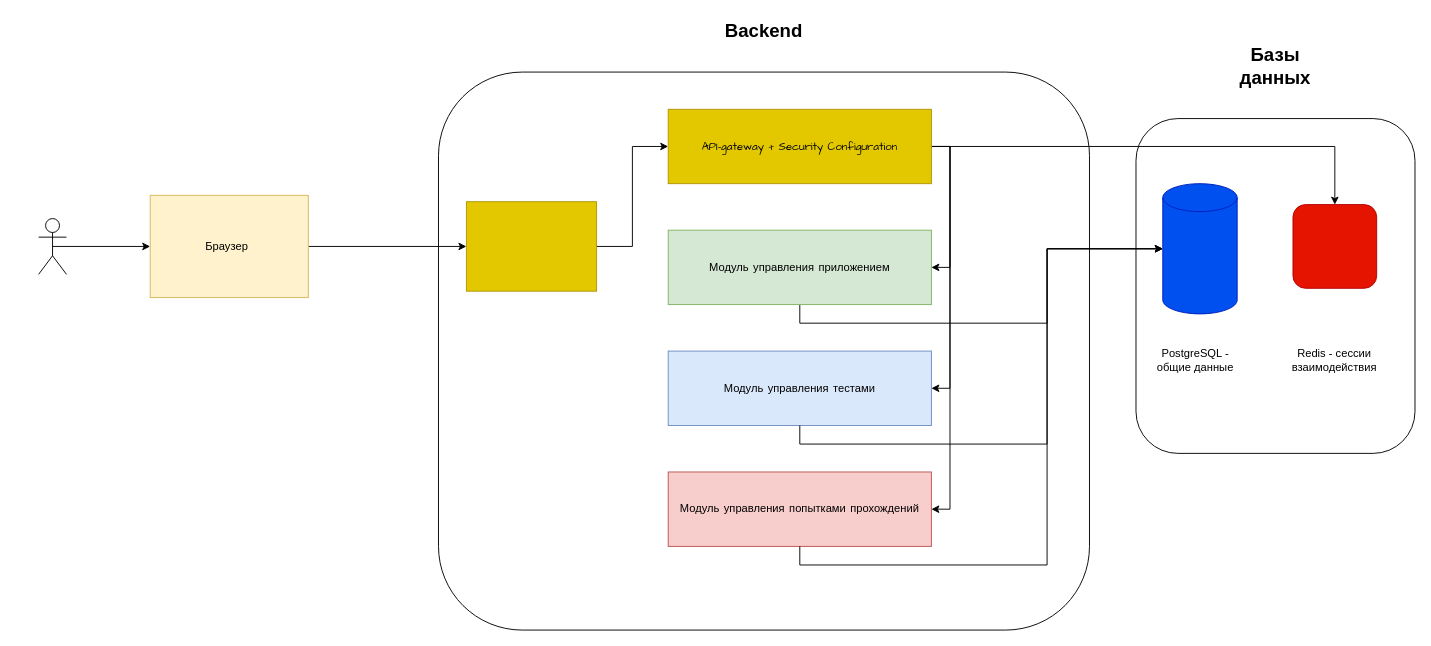
This 1431x646 diagram has some shape labels left out. Each missing label, with the centre of its shape:
Встроенный TomCat: the point at 531,246
Пользователь: the point at 52,246
